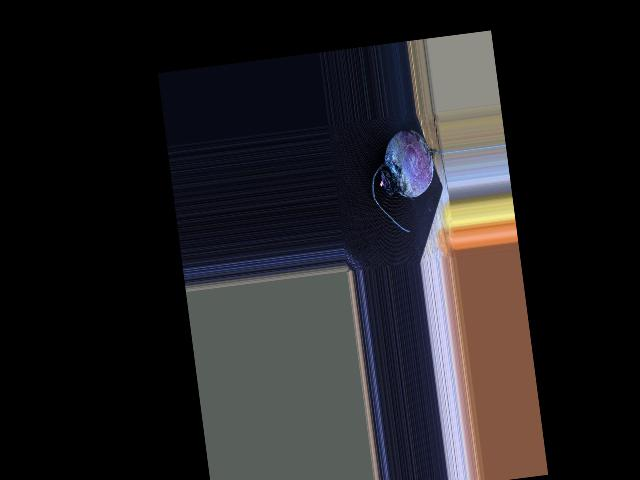beet: (364, 125, 452, 236)
